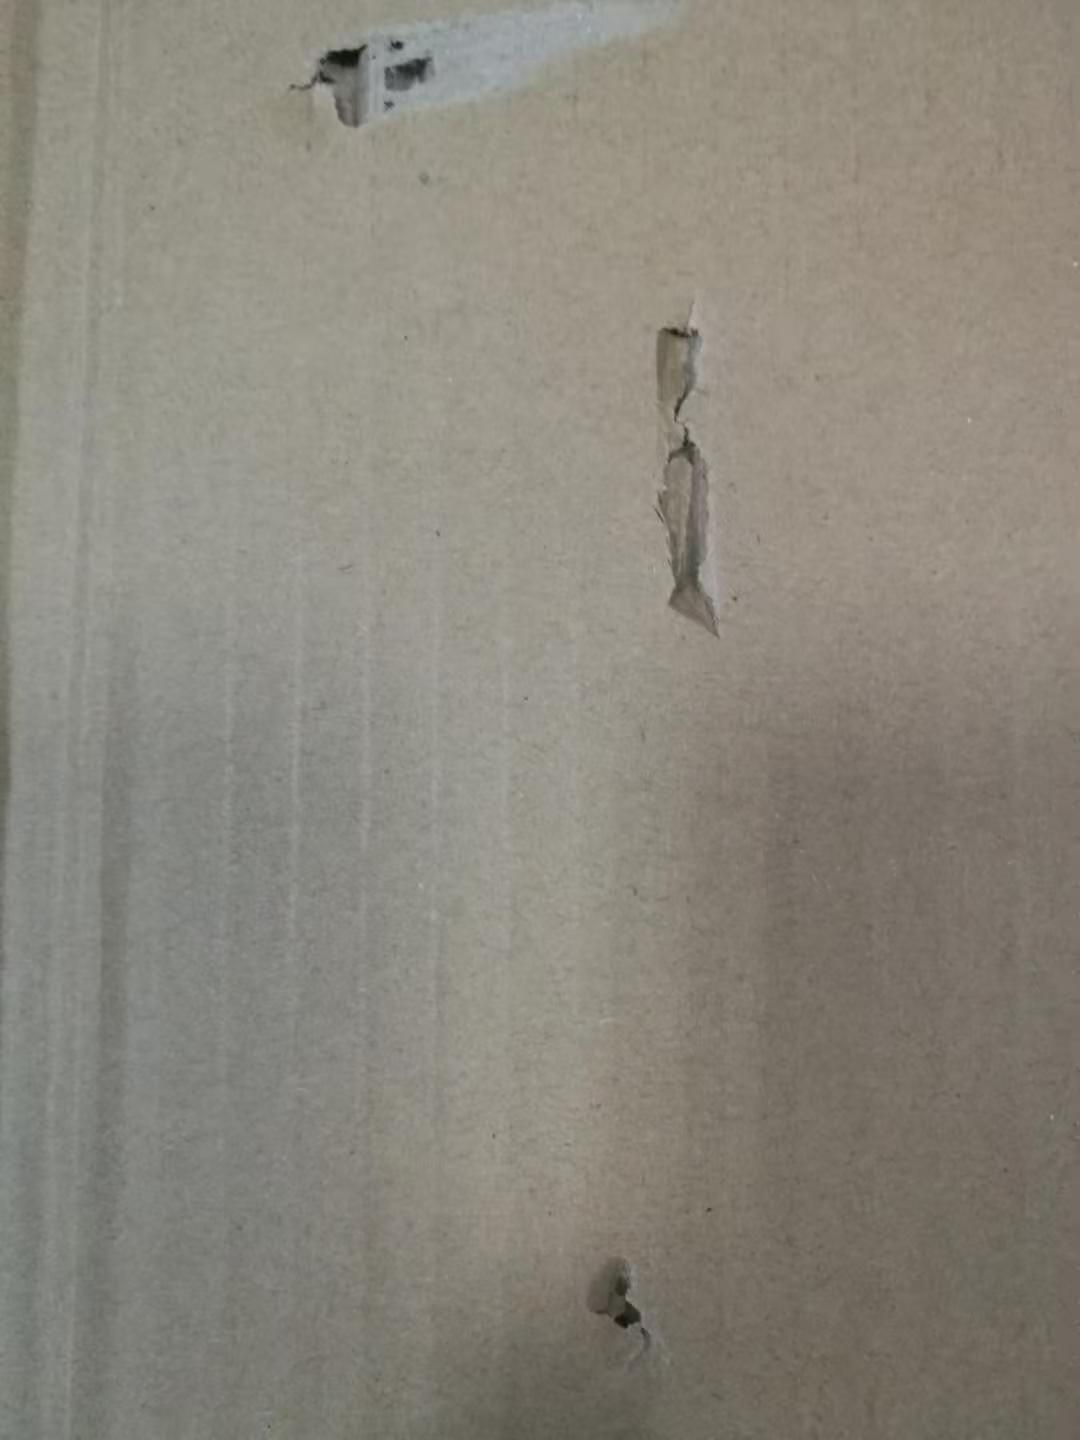defect: (263, 1, 731, 167), (608, 272, 774, 681), (566, 1227, 692, 1390)
